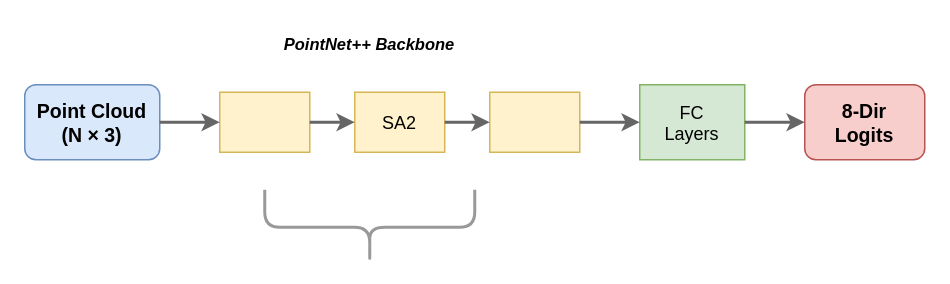
Some shapes in this 950 by 284 pixel diagram are drawn without their labels. The centre of each missing label's shape, as x and y in pixels:
"SA1" belongs at pixel 264 121.
"SA3" belongs at pixel 534 121.
